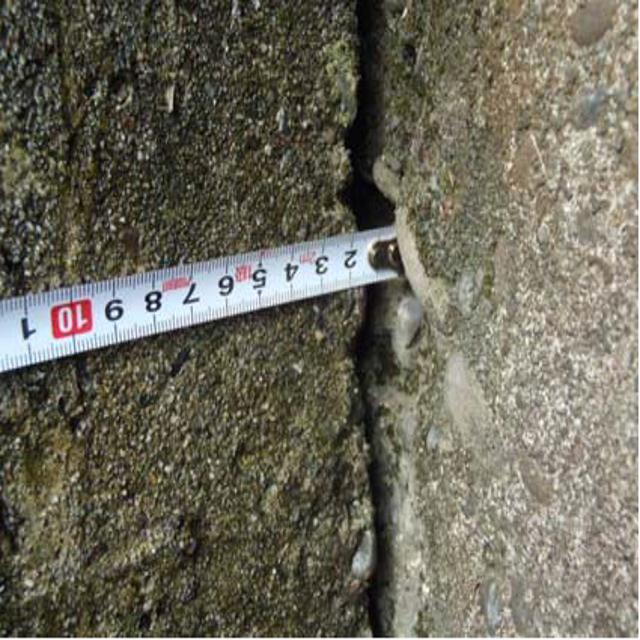crack: (333, 11, 447, 632)
